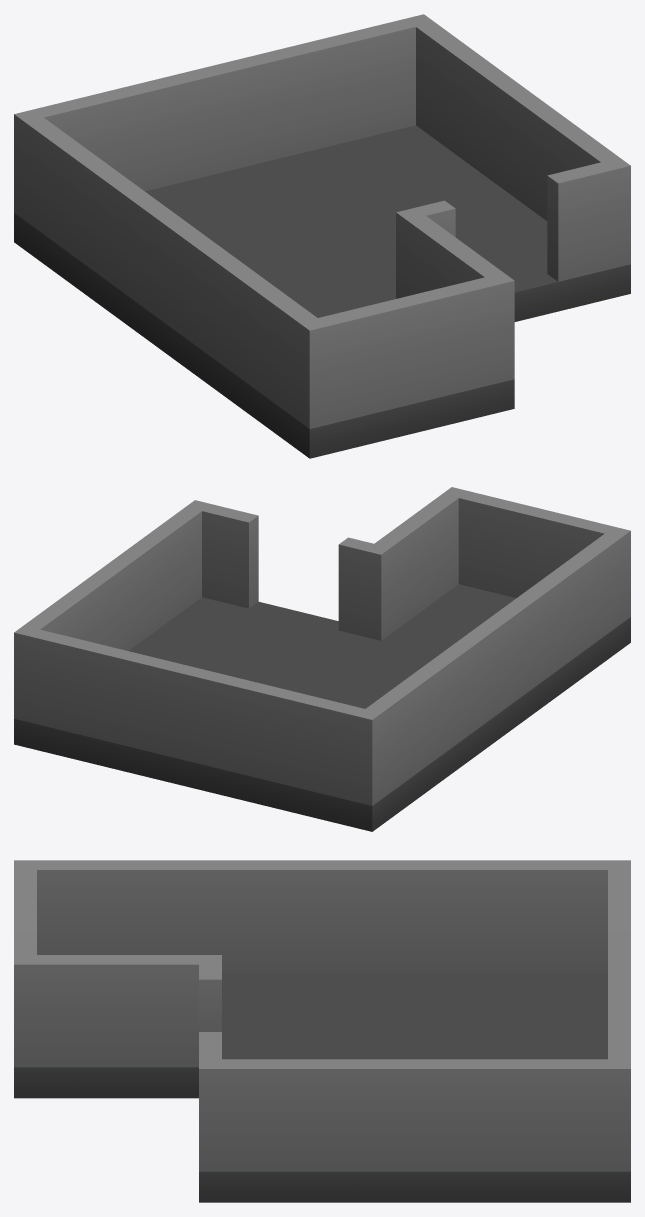
File: Fundaments_2_1.obj
3 views of the same model, one above another, from view 1: azimuth 30°, elevation 25°; view 2: azimuth 150°, elevation 25°; view 3: azimuth 270°, elevation 25° (orthographic). The views are drawn at different scales.
Visible parts, largest first — view 1: Fundaments_2_1; view 2: Fundaments_2_1; view 3: Fundaments_2_1.
Boxes of the visible parts, x1,y1,x2,y2 form: Fundaments_2_1: (14,14,630,458); Fundaments_2_1: (14,487,630,831); Fundaments_2_1: (14,860,630,1202).
Size of the model in its own units: 8 by 2.39 by 10.
